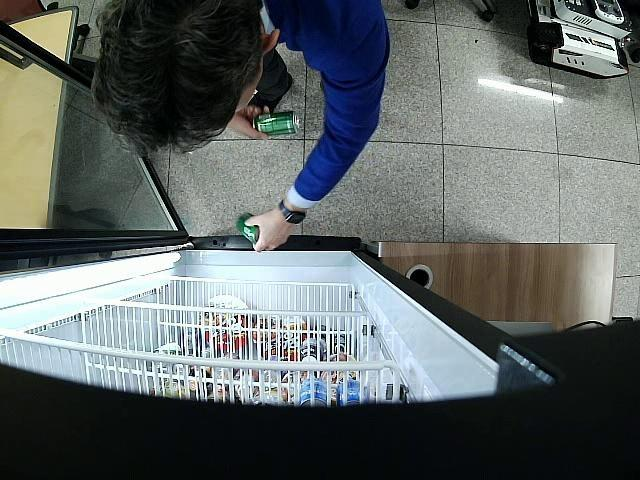12_chilsungCider: (253, 111, 300, 136), (236, 212, 260, 244)
